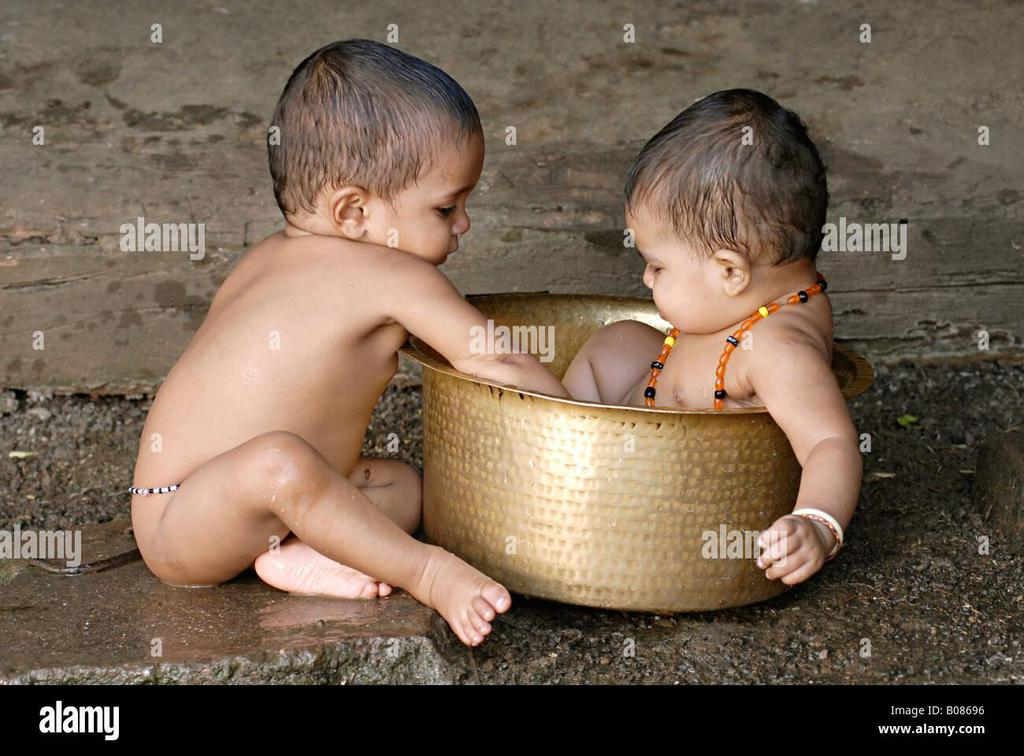child: (118, 32, 510, 655), (524, 98, 873, 590)
